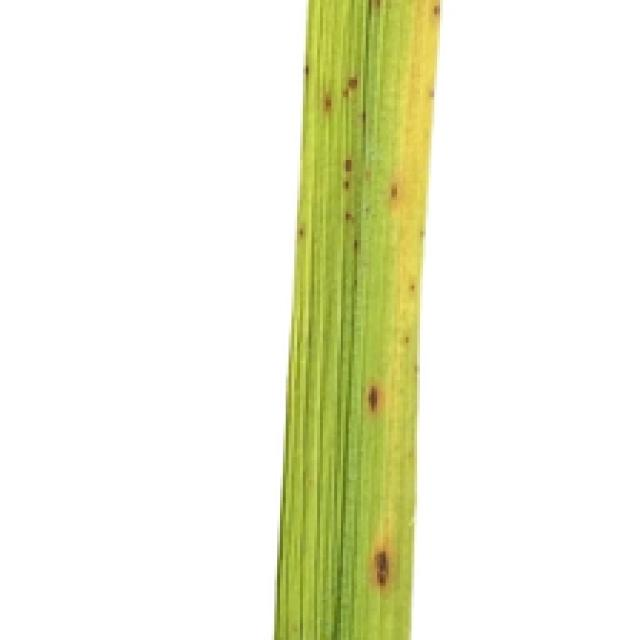Rice___Brown_Spot: (273, 0, 442, 637)
